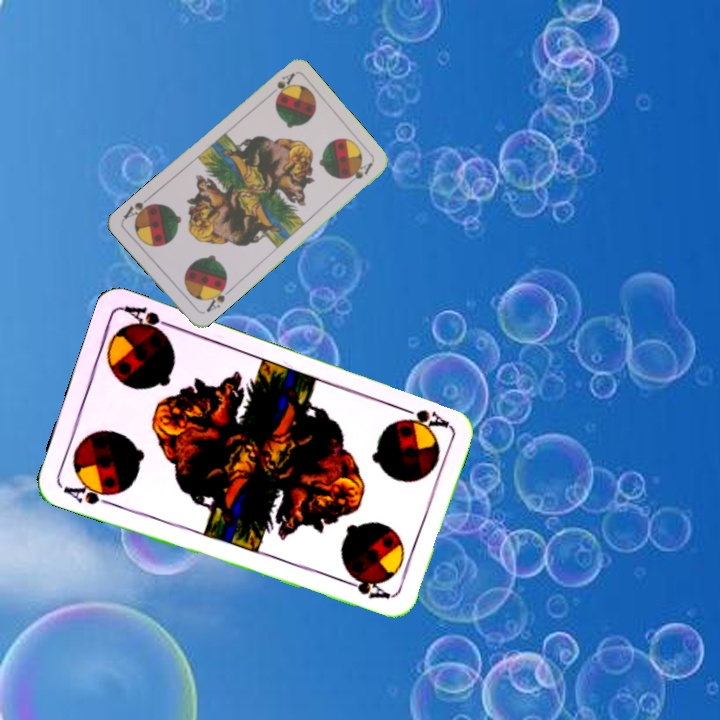SA: (59, 477, 119, 508), (393, 402, 451, 431), (202, 280, 234, 315), (271, 69, 297, 101)
